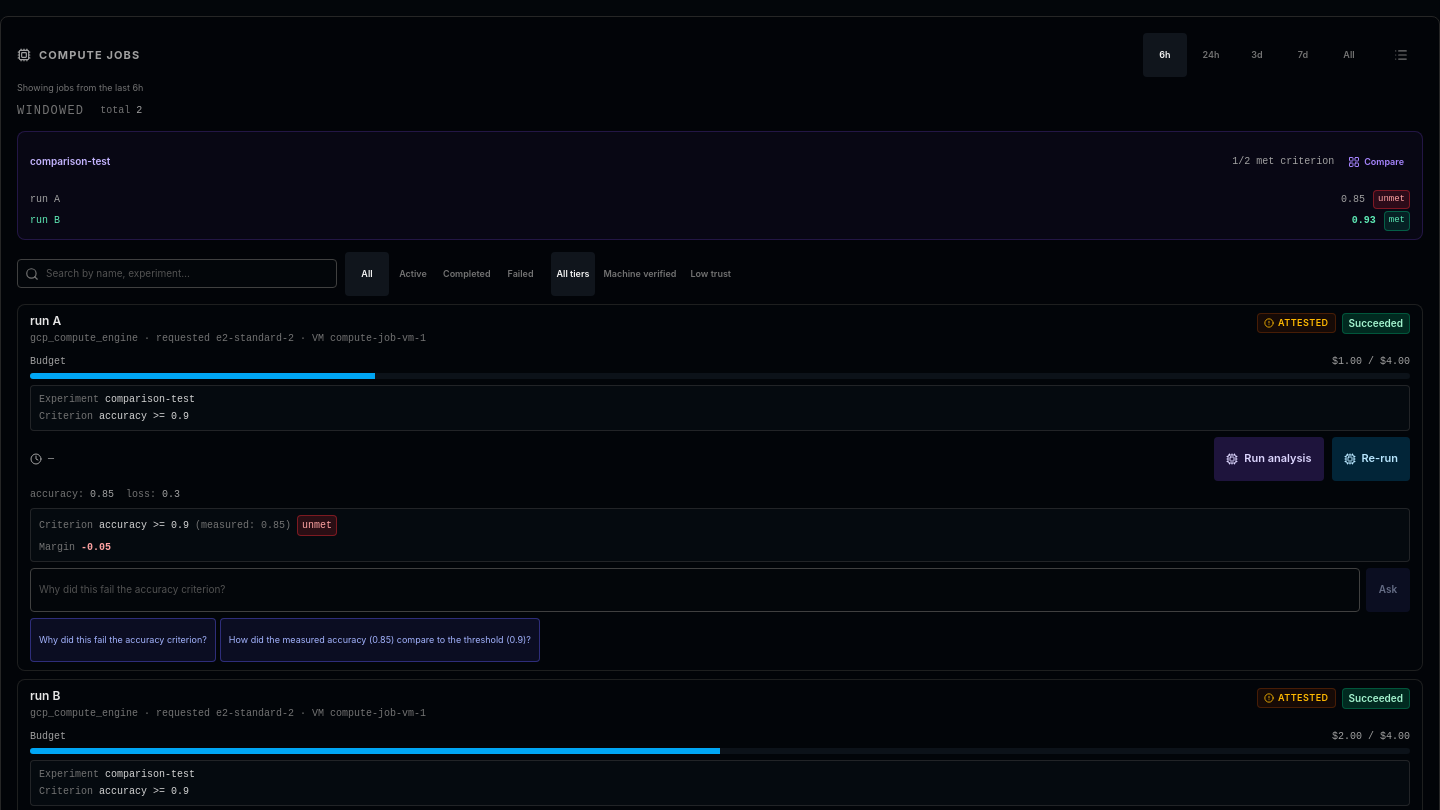
ComputeJobsPanel render + kill › renders run comparison matrix with per-metric best highlight
Click the button with test id "sweep-compare-toggle" at (1376, 162), box [1342,140,1410,184]
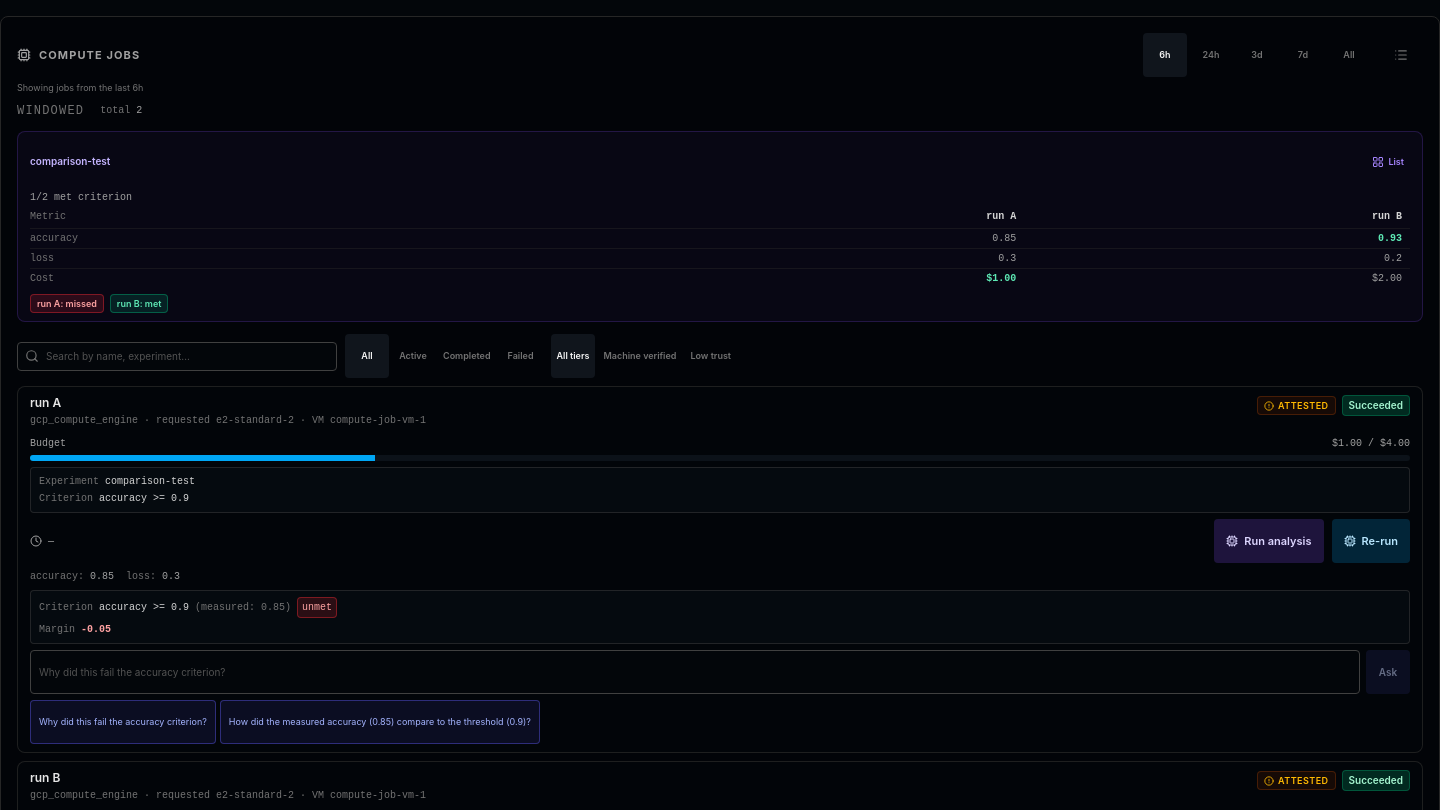
Now the element with test id "run-comparison-matrix" is shown, box [30,190,1410,313]
Now the element with test id "run-comparison-matrix" shows "accuracy", box [30,232,78,244]
Now the element with test id "run-comparison-matrix" shows "loss", box [30,252,54,264]
